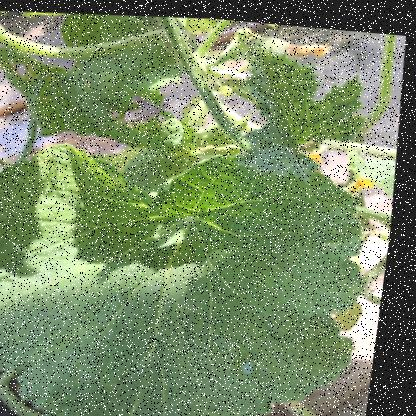Normal: (0, 118, 396, 415)
